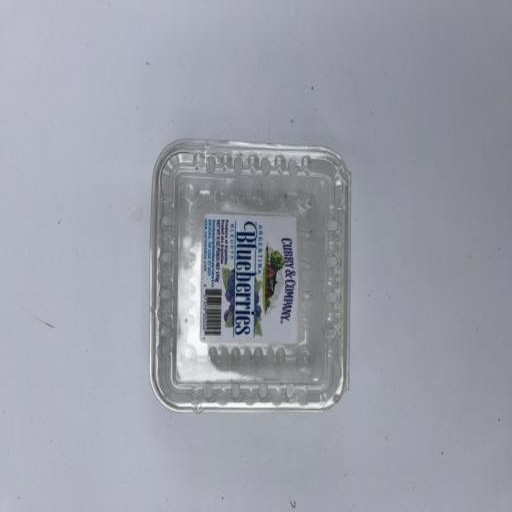Plastic_4: (148, 135, 353, 415)
